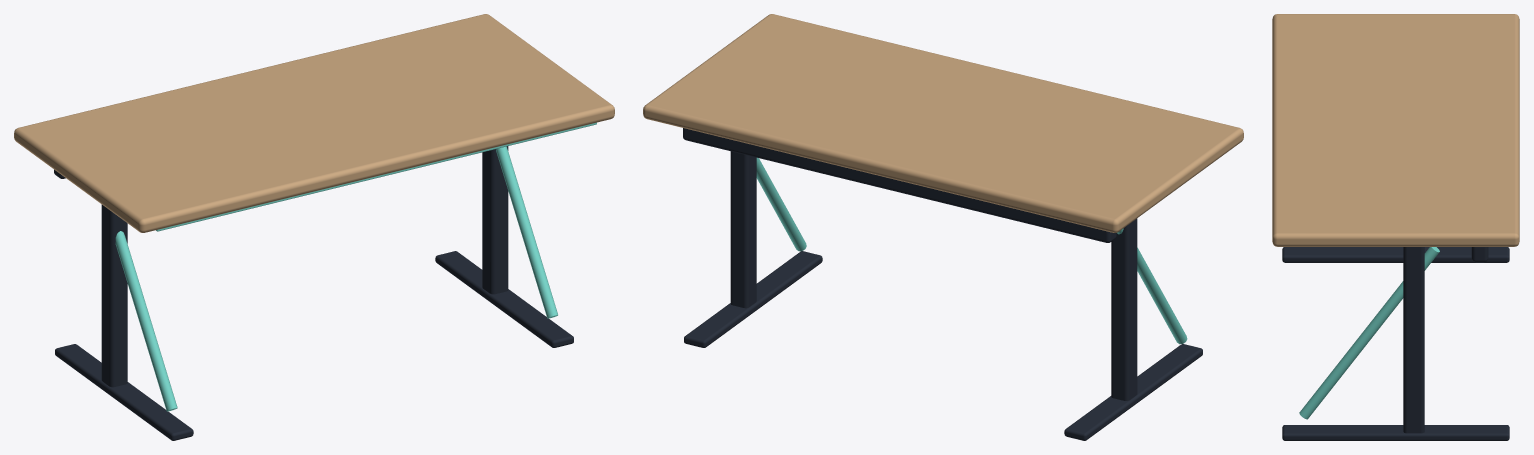
File: desk.gaming.160.glb
3 views of the same model, side by side, from view 1: azimuth 30°, elevation 25°; view 2: azimuth 150°, elevation 25°; view 3: azimuth 270°, elevation 25° (orthographic). The views are drawn at different scales.
Parts seen in each view (by area): view 1: top, frame, accent; view 2: top, frame, accent; view 3: top, frame, accent.
Part boxes in pixels (<box>): top: <box>14,14,614,232</box>; frame: <box>54,146,573,440</box>; accent: <box>115,122,596,411</box>; top: <box>643,14,1243,232</box>; frame: <box>683,128,1202,440</box>; accent: <box>756,157,1187,344</box>; top: <box>1272,14,1519,246</box>; frame: <box>1282,247,1509,440</box>; accent: <box>1299,247,1439,419</box>.
Size of the model in its own units: 1.6 by 0.75 by 0.75.
